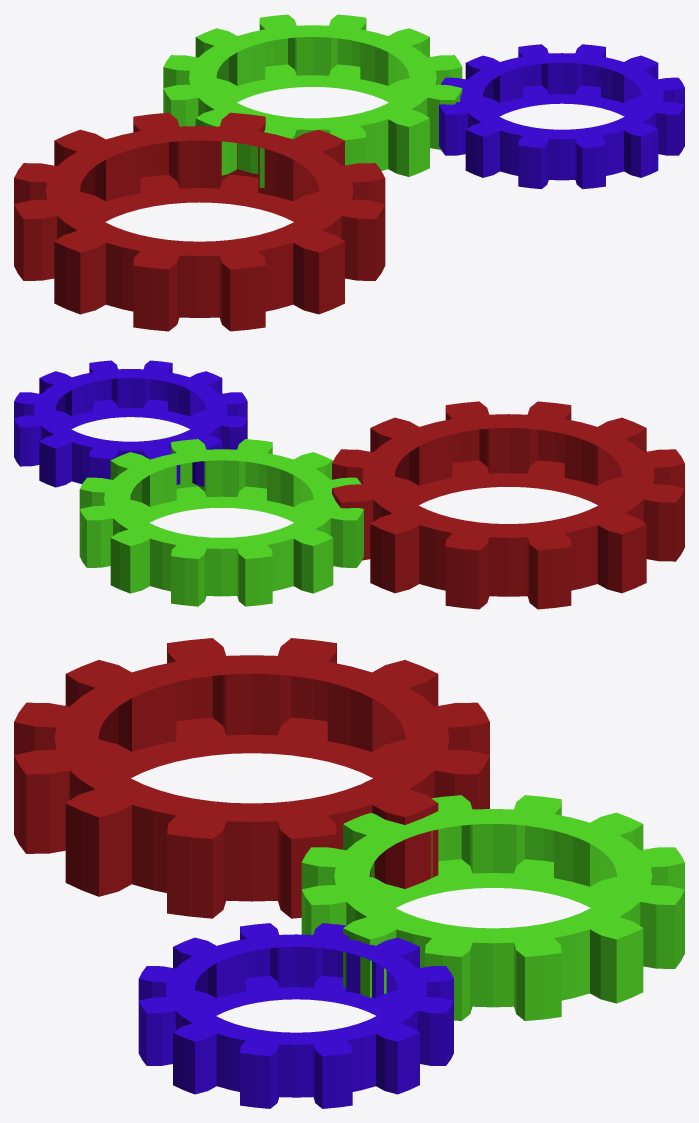
File: COGWHEELSfbxVer.fbx
The picture shows the model from 3 angles, top to bottom: view 1: azimuth 30°, elevation 25°; view 2: azimuth 150°, elevation 25°; view 3: azimuth 270°, elevation 25°; orthographic projection. The views are drawn at different scales.
Parts seen in each view (by area): view 1: Gear, Gear.001, Gear.002; view 2: Gear, Gear.001, Gear.002; view 3: Gear, Gear.001, Gear.002.
Part boxes in pixels (bbox=[...]): Gear: bbox=[14, 112, 385, 331]; Gear.001: bbox=[163, 14, 462, 188]; Gear.002: bbox=[439, 44, 684, 189]; Gear: bbox=[332, 401, 684, 609]; Gear.001: bbox=[79, 439, 363, 606]; Gear.002: bbox=[14, 360, 247, 487]; Gear: bbox=[14, 638, 489, 918]; Gear.001: bbox=[301, 795, 684, 1020]; Gear.002: bbox=[138, 923, 453, 1108].
Size of the model in its own units: 437 by 40 by 306.
